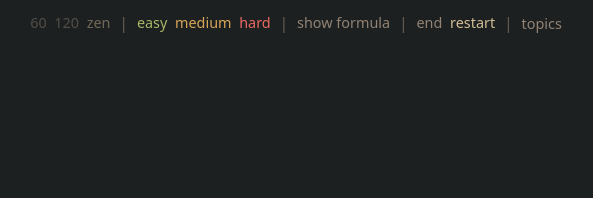
it: ControlBar topics menu › filters topic list by search text
Click the button "topics".
click(542, 24)  # box [522,17,562,31]
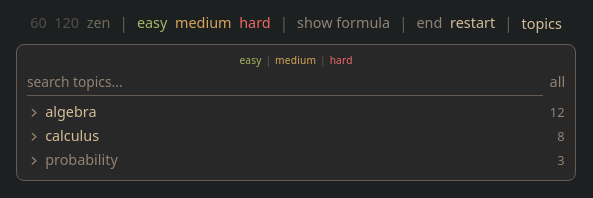
Type "calc" into the field with placeholder "search topics...".
click(285, 82); type("calc")  # box [27,69,543,96]
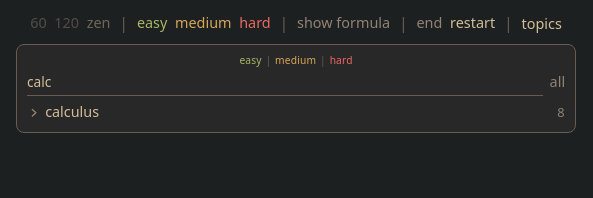
expect the text "calculus" is shown: met, box [45,103,99,122]
expect the button "probability" is gone: met
